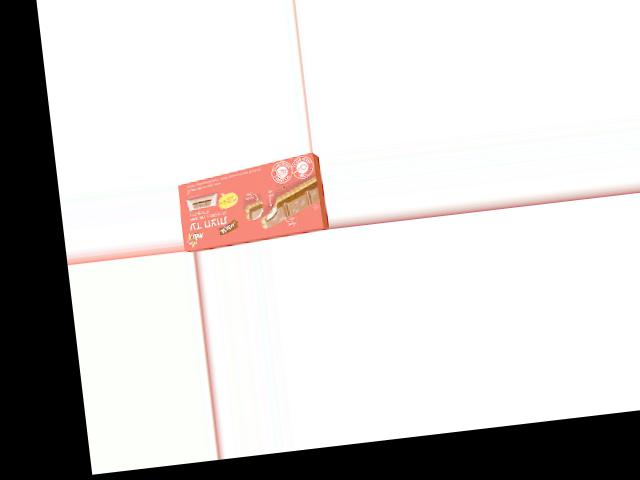chocolate: (174, 160, 327, 247)
